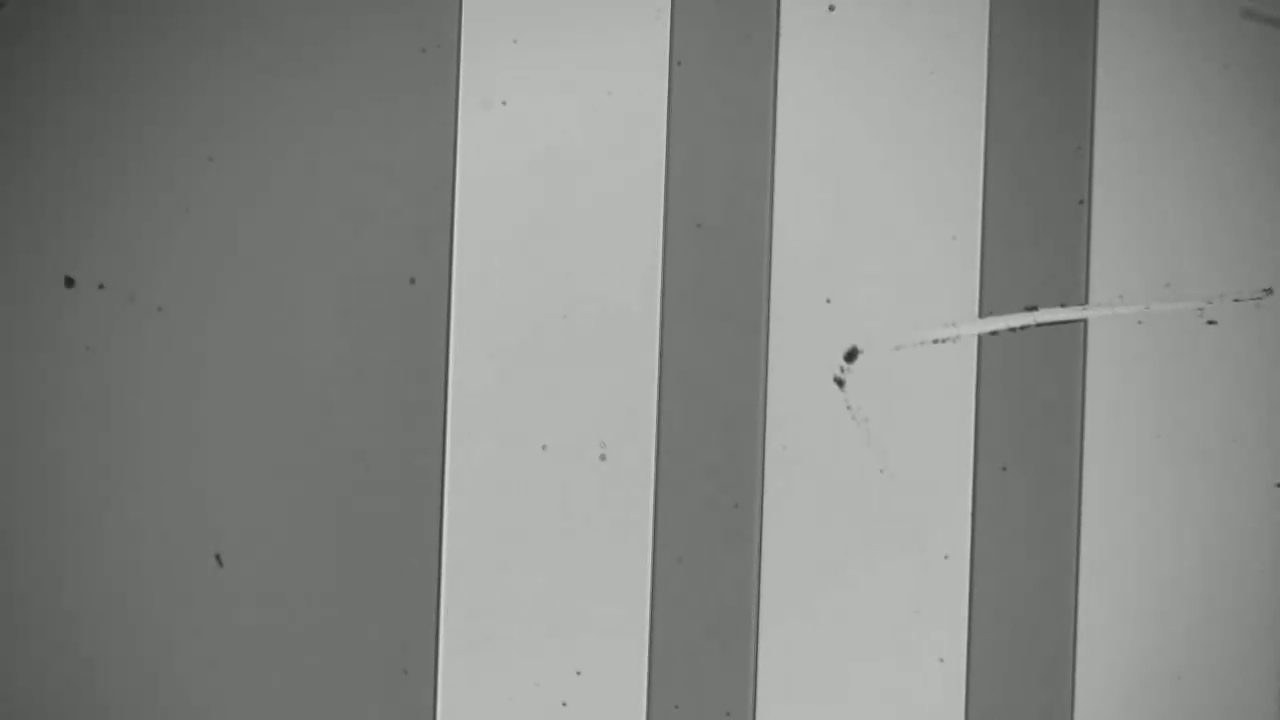Short_circuit: (949, 283, 1118, 353)
